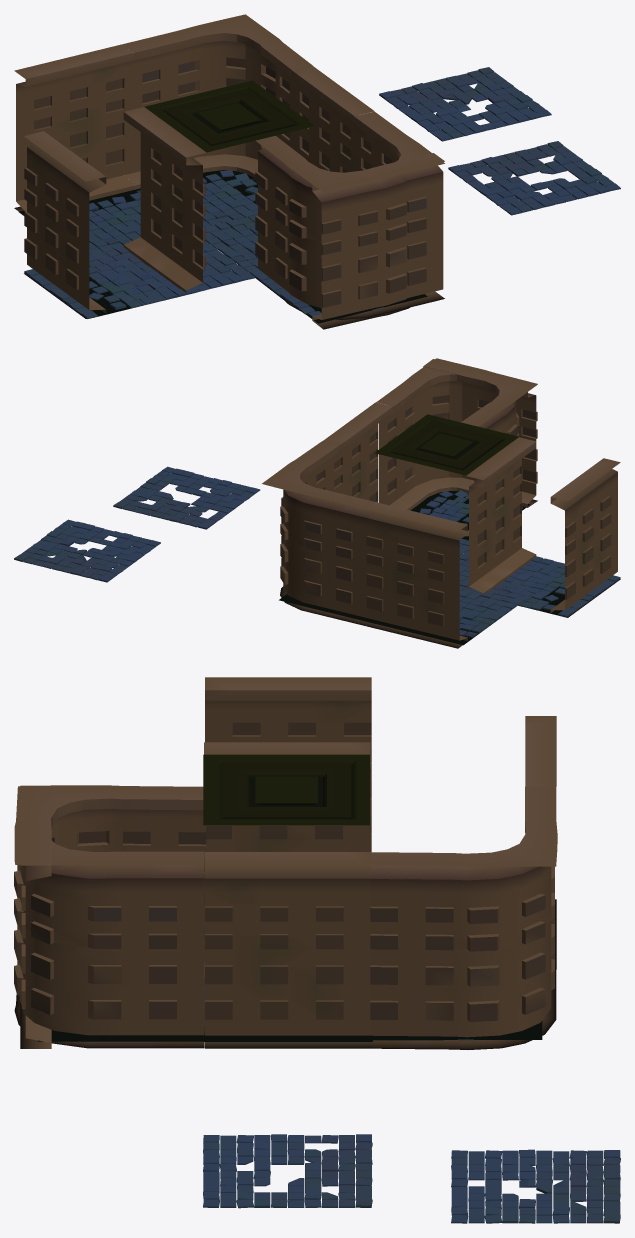
The model's file is tilesleveled.fbx.
3 views of the same model, one above another, from view 1: azimuth 30°, elevation 25°; view 2: azimuth 150°, elevation 25°; view 3: azimuth 270°, elevation 25° (orthographic). The views are drawn at different scales.
Visible parts, largest first — view 1: threewaytile2, twowaytile, cornerTile2, upTile1, upTile2, midTile2, upperFloor, midTile3, midTile1; view 2: twowaytile, threewaytile2, upTile1, cornerTile2, midTile2, upperFloor, midTile3, upTile2, midTile1; view 3: threewaytile2, cornerTile2, upTile2, twowaytile, upperFloor, midTile2, midTile3, upTile1.
Boxes of the visible parts, bbox=[...] form: threewaytile2: bbox=[255, 111, 444, 329]; twowaytile: bbox=[24, 107, 205, 318]; cornerTile2: bbox=[122, 14, 312, 227]; upTile1: bbox=[14, 44, 140, 254]; upTile2: bbox=[203, 65, 374, 276]; midTile2: bbox=[379, 67, 551, 141]; upperFloor: bbox=[144, 80, 314, 152]; midTile3: bbox=[448, 141, 620, 215]; midTile1: bbox=[89, 241, 254, 303]; twowaytile: bbox=[466, 437, 620, 617]; threewaytile2: bbox=[376, 358, 537, 540]; upTile1: bbox=[366, 502, 517, 648]; cornerTile2: bbox=[262, 441, 375, 625]; midTile2: bbox=[14, 519, 160, 582]; upperFloor: bbox=[374, 414, 518, 475]; midTile3: bbox=[113, 466, 260, 529]; upTile2: bbox=[323, 402, 468, 555]; midTile1: bbox=[459, 549, 564, 605]; threewaytile2: bbox=[14, 785, 206, 1048]; cornerTile2: bbox=[370, 786, 557, 1049]; upTile2: bbox=[204, 852, 372, 1048]; twowaytile: bbox=[204, 677, 371, 851]; upperFloor: bbox=[203, 754, 369, 825]; midTile2: bbox=[451, 1149, 620, 1223]; midTile3: bbox=[203, 1134, 372, 1208]; upTile1: bbox=[525, 716, 556, 969].
Size of the model in its own units: 12.91 by 3.06 by 9.1.
